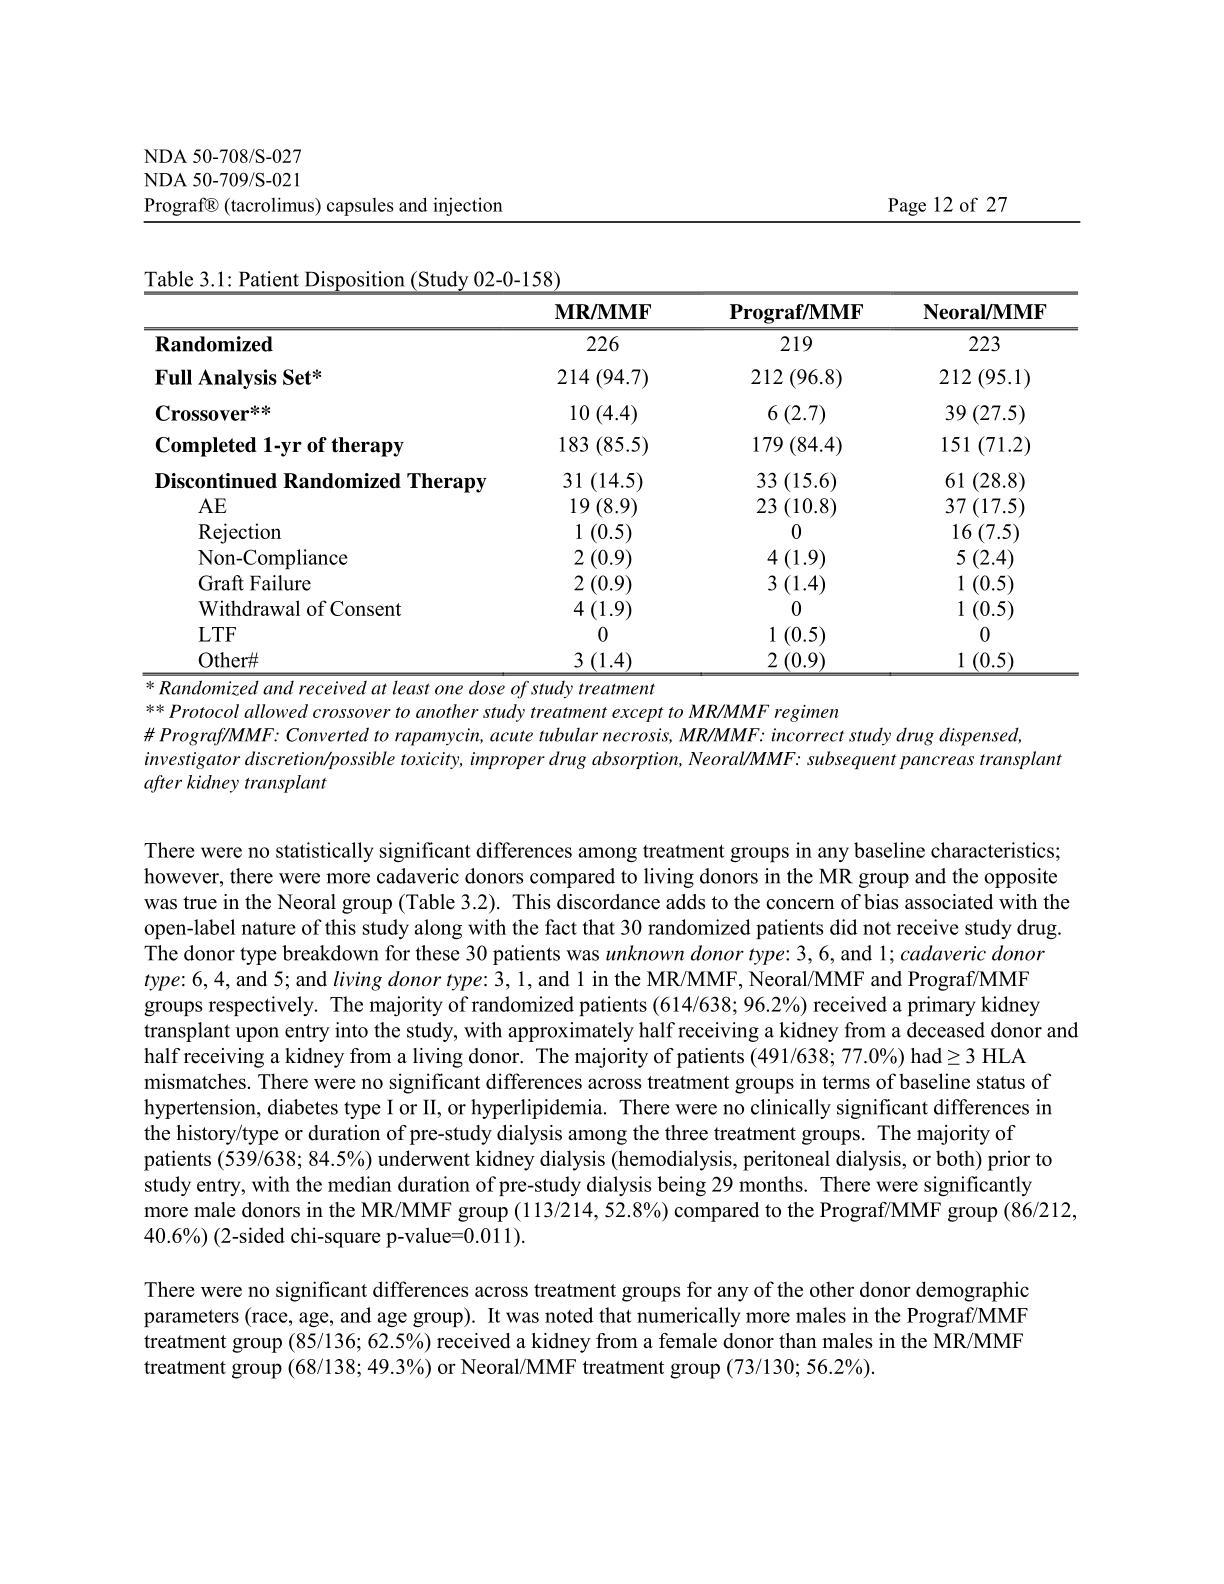partial_lined: (141, 291, 1080, 676)
